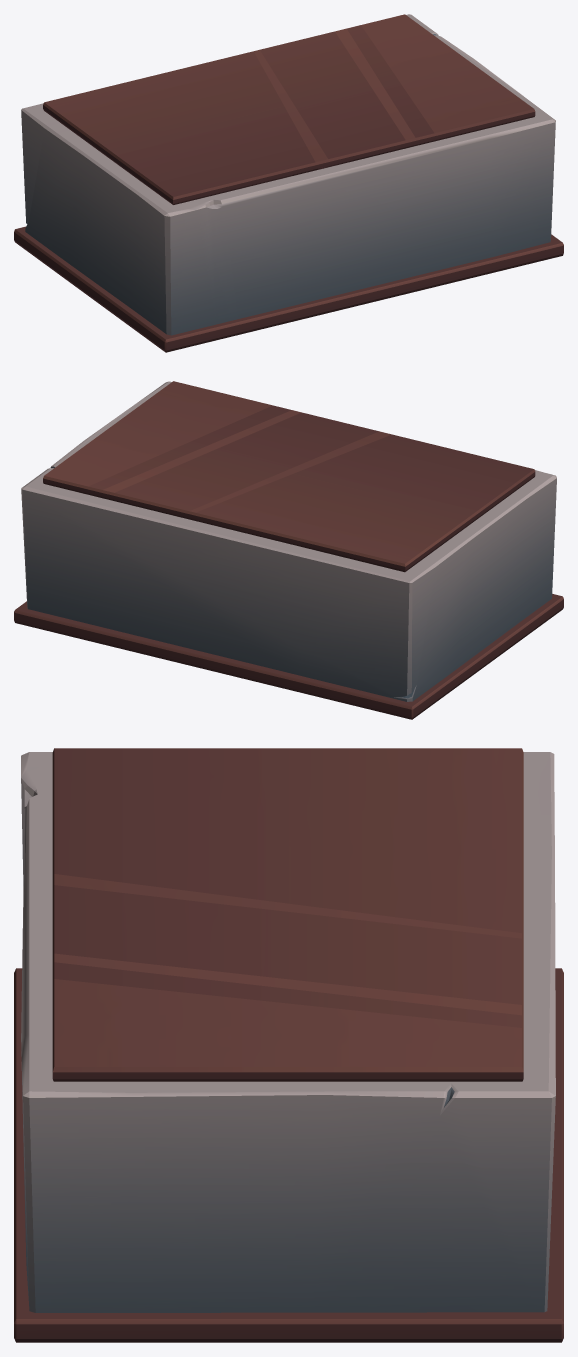
Rendered from DisplayCase_High_2x3_Classic_A.fbx.
3 views of the same model, one above another, from view 1: azimuth 30°, elevation 25°; view 2: azimuth 150°, elevation 25°; view 3: azimuth 270°, elevation 25° (orthographic). The views are drawn at different scales.
Visible parts, largest first — view 1: DisplayCase_High_2x3_Classic_A; view 2: DisplayCase_High_2x3_Classic_A; view 3: DisplayCase_High_2x3_Classic_A.
Boxes of the visible parts, x1=… form: DisplayCase_High_2x3_Classic_A: x1=14, y1=14, x2=563, y2=352; DisplayCase_High_2x3_Classic_A: x1=14, y1=381, x2=563, y2=719; DisplayCase_High_2x3_Classic_A: x1=14, y1=748, x2=563, y2=1342.
Size of the model in its own units: 2.91 by 1 by 1.92.
